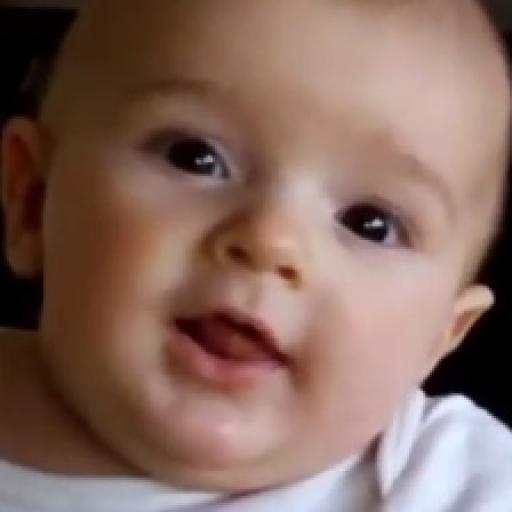Autism: (60, 6, 488, 512)
